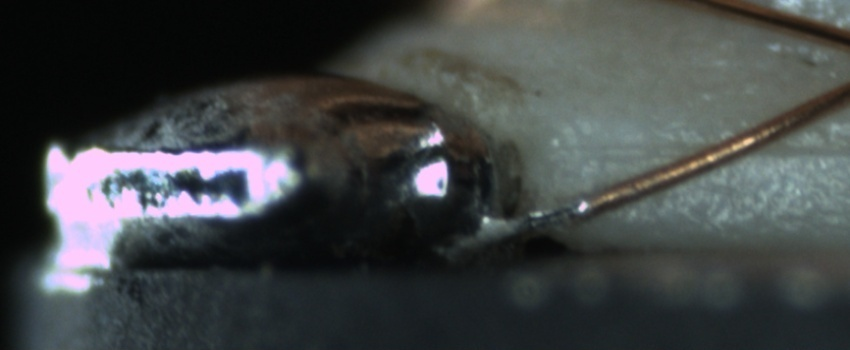DL: (573, 115, 845, 179)
TS: (439, 193, 591, 253)
